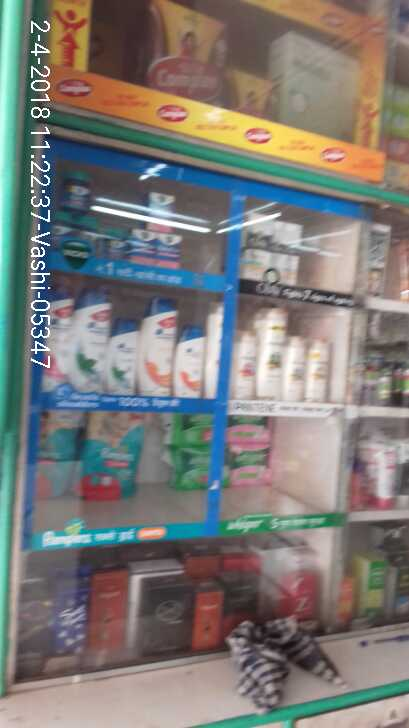vicks: (143, 194, 177, 232), (71, 216, 103, 251), (60, 171, 85, 214), (156, 236, 180, 267), (133, 231, 153, 266)
